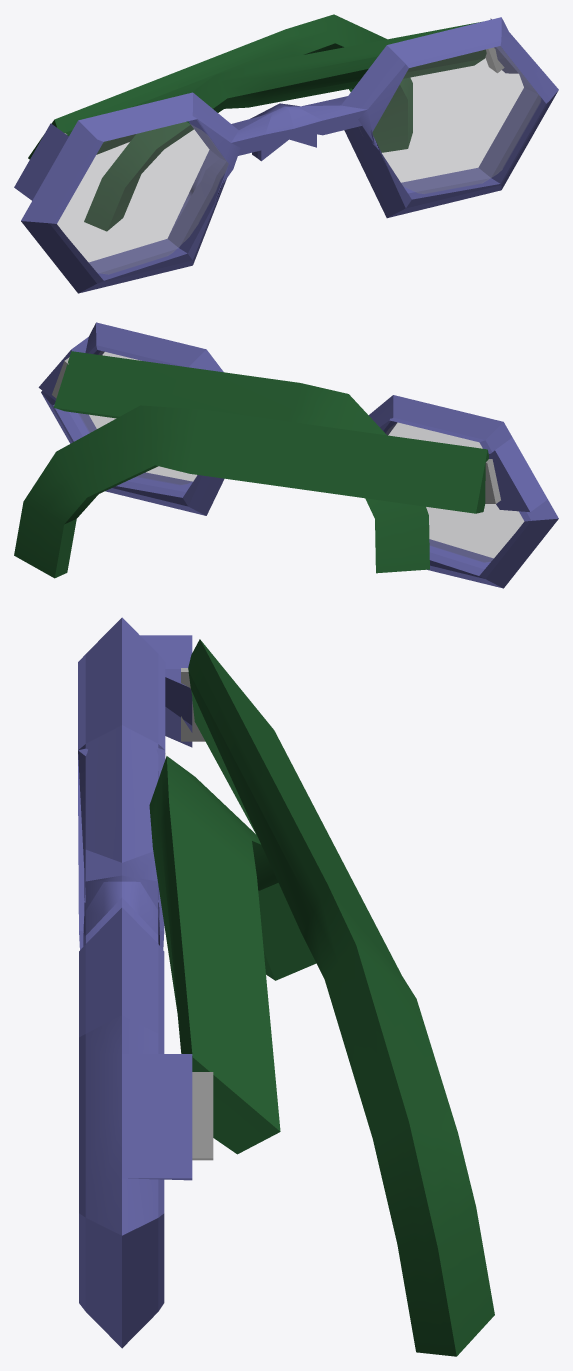
File: Gafas 1.fbx
3 renders of one model, top to bottom at view 1: azimuth 30°, elevation 25°; view 2: azimuth 150°, elevation 25°; view 3: azimuth 270°, elevation 25°, orthographic. The views are drawn at different scales.
Parts seen in each view (by area): view 1: pasted__OJOS, pasted__lupasI, pasted__lupasD, pasted__pataR, pasted__PataL; view 2: pasted__PataL, pasted__OJOS, pasted__pataR, pasted__lupasD, pasted__lupasI, pasted__ApoyoL; view 3: pasted__OJOS, pasted__PataL, pasted__pataR, pasted__apoyoR.
Boxes of the visible parts, bbox=[...] form: pasted__OJOS: bbox=[14, 17, 558, 293]; pasted__lupasI: bbox=[373, 46, 541, 193]; pasted__lupasD: bbox=[57, 122, 228, 274]; pasted__pataR: bbox=[84, 22, 486, 231]; pasted__PataL: bbox=[28, 14, 412, 159]; pasted__PataL: bbox=[14, 405, 488, 578]; pasted__OJOS: bbox=[38, 322, 558, 588]; pasted__pataR: bbox=[53, 351, 429, 573]; pasted__lupasD: bbox=[386, 422, 523, 562]; pasted__lupasI: bbox=[79, 351, 196, 484]; pasted__ApoyoL: bbox=[485, 459, 500, 503]; pasted__OJOS: bbox=[78, 617, 192, 1348]; pasted__PataL: bbox=[188, 639, 494, 1356]; pasted__pataR: bbox=[149, 756, 316, 1154]; pasted__apoyoR: bbox=[192, 1072, 213, 1160].
Size of the model in its own units: 6.25 by 2.08 by 2.18.
